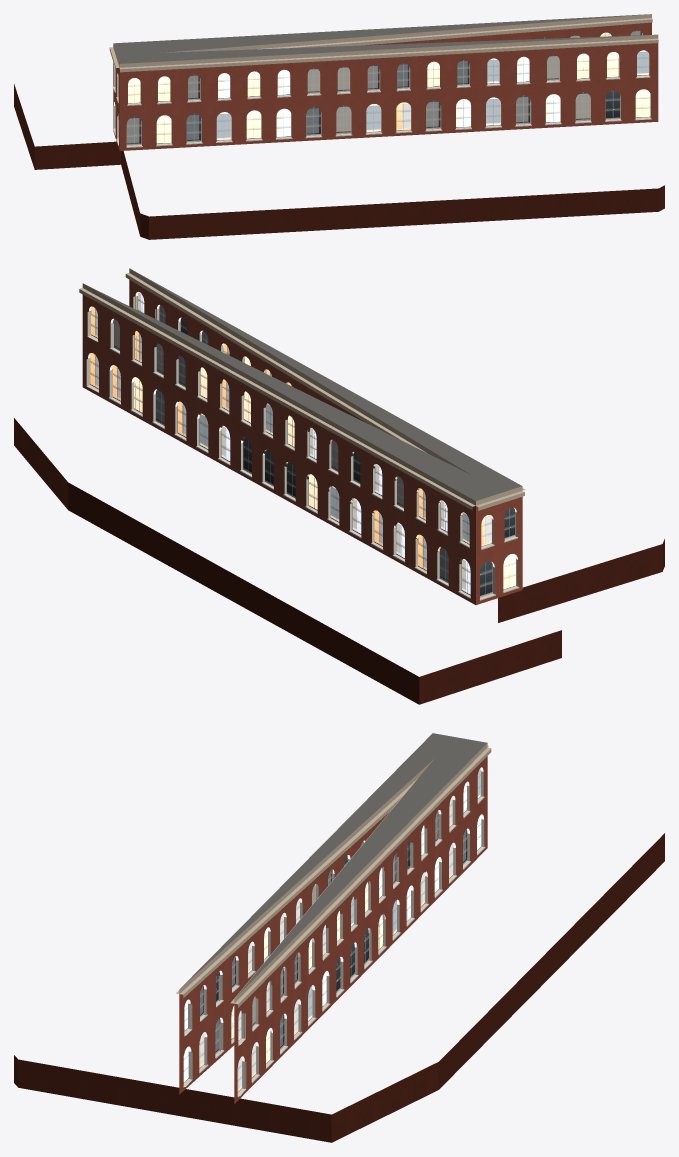
File: z5b_hohl_brick.glb
The picture shows the model from 3 angles, top to bottom: view 1: azimuth 30°, elevation 25°; view 2: azimuth 150°, elevation 25°; view 3: azimuth 270°, elevation 25°; orthographic projection. The views are drawn at different scales.
Parts seen in each view (by area): view 1: z5b_hohl_brick; view 2: z5b_hohl_brick; view 3: z5b_hohl_brick.
Boxes of the visible parts, left/top/right/bottom form: z5b_hohl_brick: left=14, top=14, right=664, bottom=239; z5b_hohl_brick: left=14, top=268, right=664, bottom=704; z5b_hohl_brick: left=14, top=733, right=664, bottom=1142.
Bounding box in the file's own units: 70.77 × 14.2 × 62.64.
3 materials, 3 textured.
